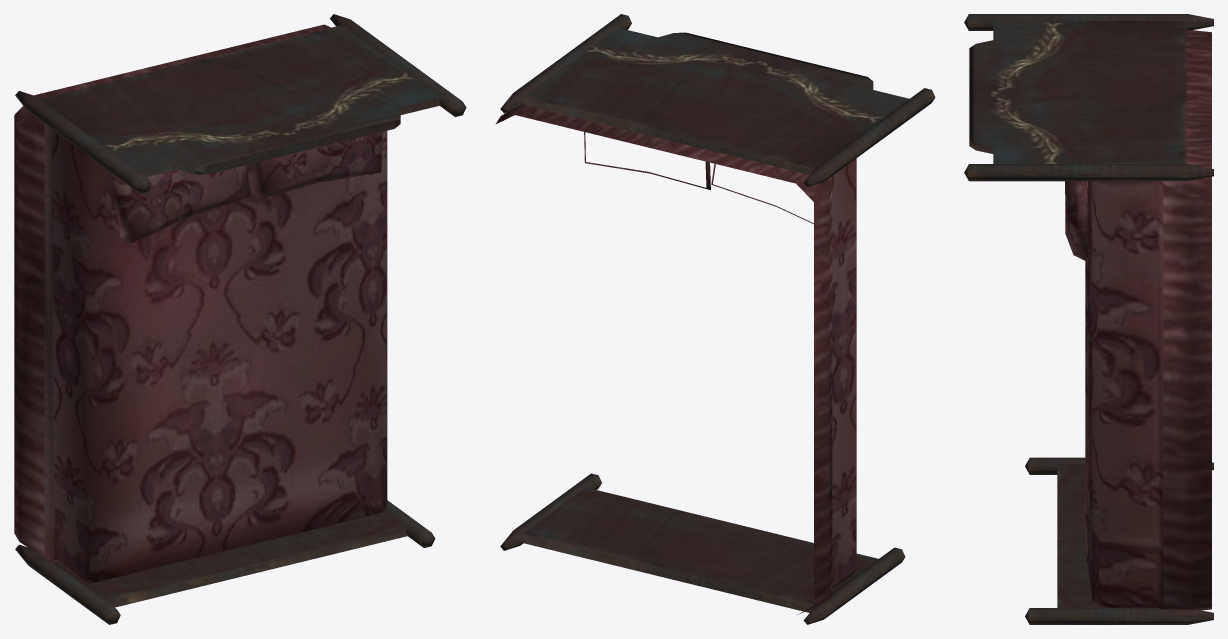
File: furniture_fullbed.glb
The picture shows the model from 3 angles, left to right: view 1: azimuth 30°, elevation 25°; view 2: azimuth 150°, elevation 25°; view 3: azimuth 270°, elevation 25°; orthographic projection. The views are drawn at different scales.
Bounding box in the file's own units: 79.67 × 105 × 51.81.
Materials: 2 (2 with a texture image).
